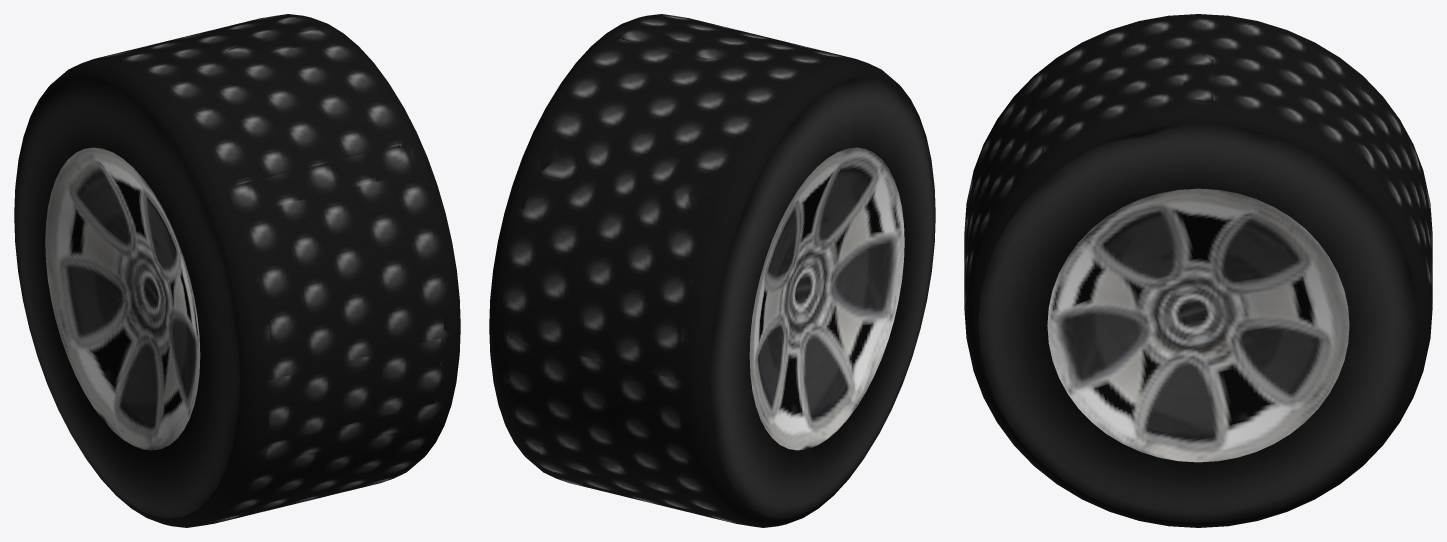
File: RC_Wheel_Kit.obj
3 renders of one model, left to right at view 1: azimuth 30°, elevation 25°; view 2: azimuth 150°, elevation 25°; view 3: azimuth 270°, elevation 25°, orthographic. The views are drawn at different scales.
Parts seen in each view (by area): view 1: wheel-front-right, wheel-back-right, wheel-back-left; view 2: wheel-front-right, wheel-back-right, wheel-back-left; view 3: wheel-front-right, wheel-back-right, wheel-back-left.
Boxes of the visible parts, x1=… form: wheel-front-right: x1=14, y1=23, x2=460, y2=525; wheel-back-right: x1=51, y1=14, x2=456, y2=525; wheel-back-left: x1=166, y1=26, x2=459, y2=527; wheel-front-right: x1=489, y1=23, x2=935, y2=525; wheel-back-right: x1=495, y1=14, x2=898, y2=525; wheel-back-left: x1=490, y1=28, x2=883, y2=527; wheel-front-right: x1=970, y1=113, x2=1426, y2=527; wheel-back-right: x1=964, y1=14, x2=1432, y2=527; wheel-back-left: x1=964, y1=50, x2=1432, y2=511.
Bounding box in the file's own units: 4.31 × 7.82 × 7.82.
1 material, 1 textured.
